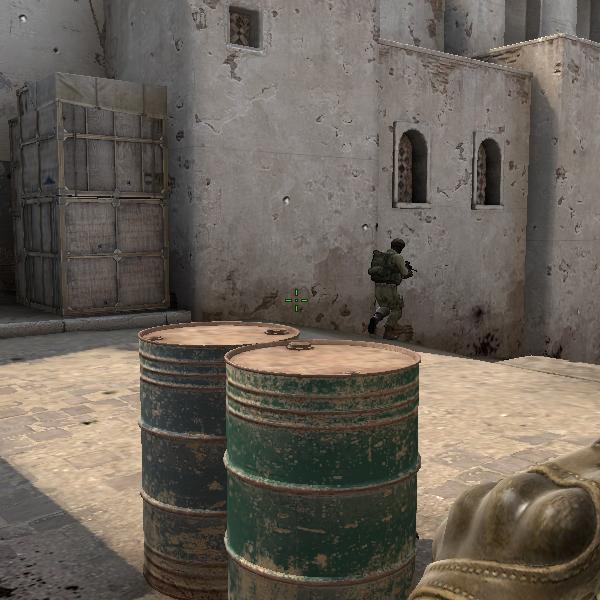ct_body: (366, 237, 417, 344)
ct_head: (388, 237, 408, 256)
